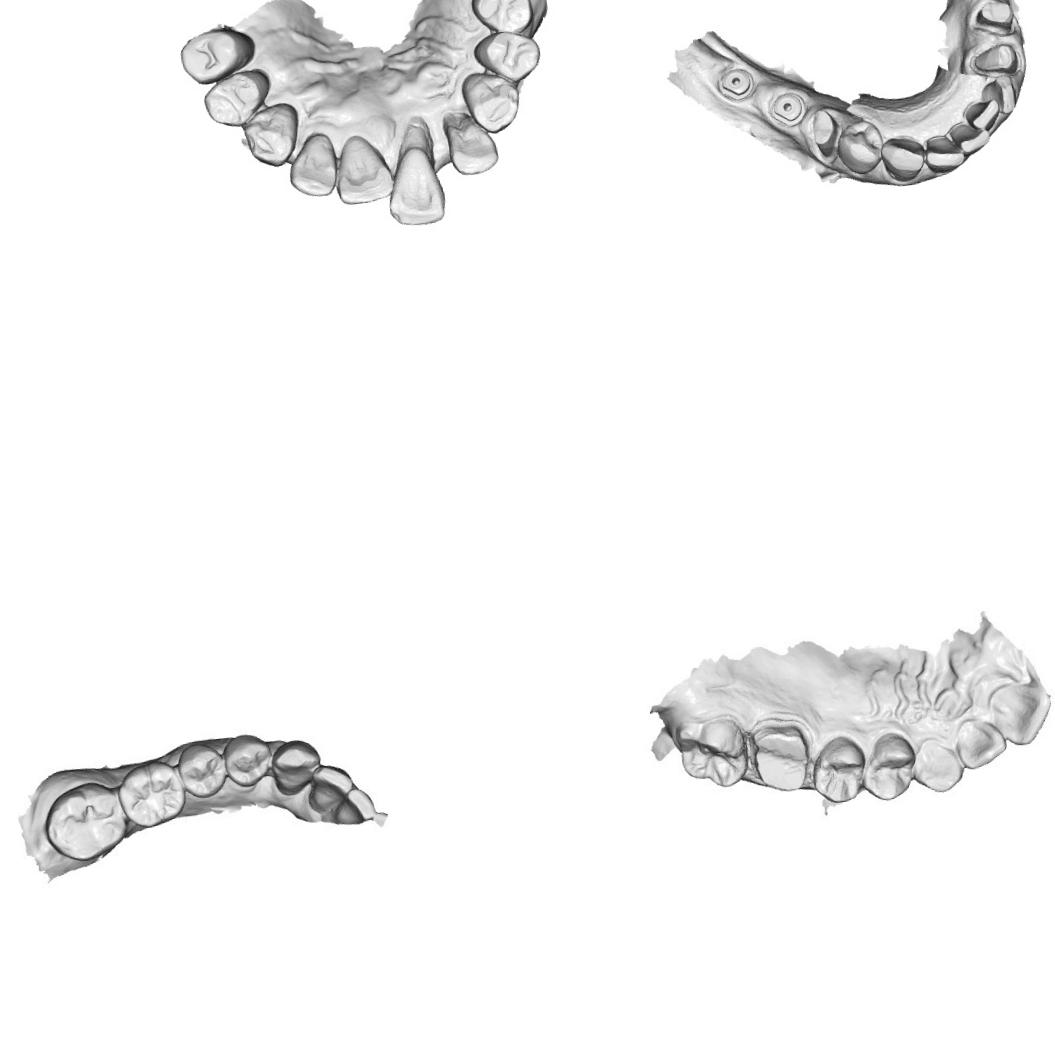canine: (458, 64, 526, 136), (239, 100, 305, 171), (910, 732, 966, 800), (266, 734, 324, 798), (878, 132, 929, 186)
crown: (745, 720, 814, 796), (805, 106, 842, 162), (968, 40, 1022, 78), (972, 0, 1017, 33)
implant: (766, 88, 810, 129), (716, 63, 758, 103)
incisor: (378, 116, 450, 230), (330, 129, 396, 207), (440, 103, 503, 179), (990, 676, 1052, 745), (282, 130, 340, 201), (302, 760, 356, 816), (956, 718, 1008, 772), (326, 782, 385, 829), (921, 130, 968, 176), (977, 74, 1018, 118), (948, 118, 992, 157), (961, 98, 1004, 134)
molar: (38, 778, 128, 866), (667, 706, 751, 794), (114, 754, 190, 831)
premolar: (176, 24, 260, 88), (807, 730, 873, 808), (200, 65, 276, 131), (859, 728, 920, 804), (472, 25, 544, 85), (218, 728, 280, 792), (175, 736, 232, 802), (832, 115, 889, 179), (468, 0, 534, 39)
